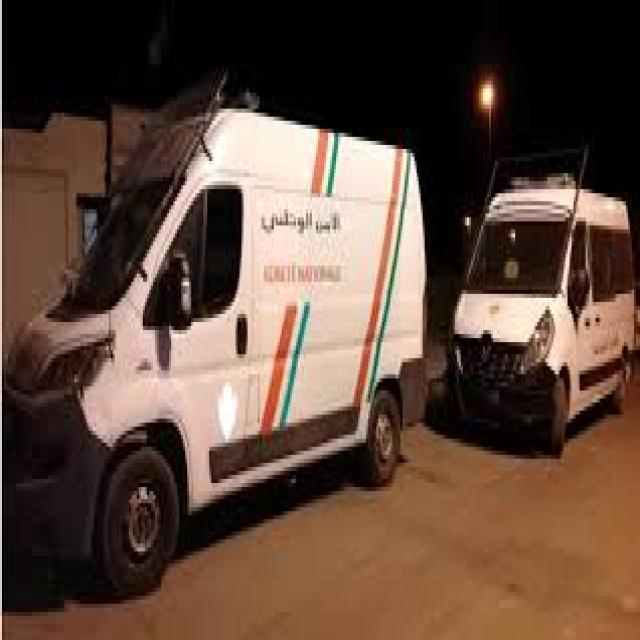Police car: (2, 65, 429, 606)
